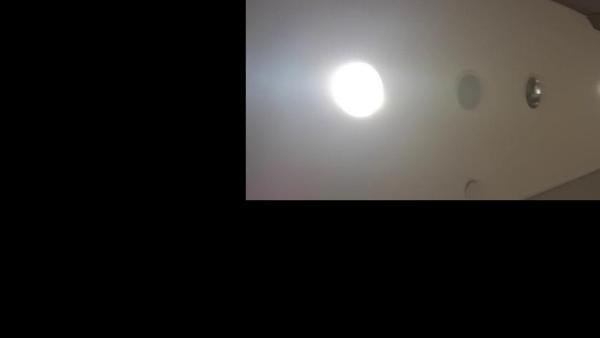light_off: (516, 61, 550, 117)
